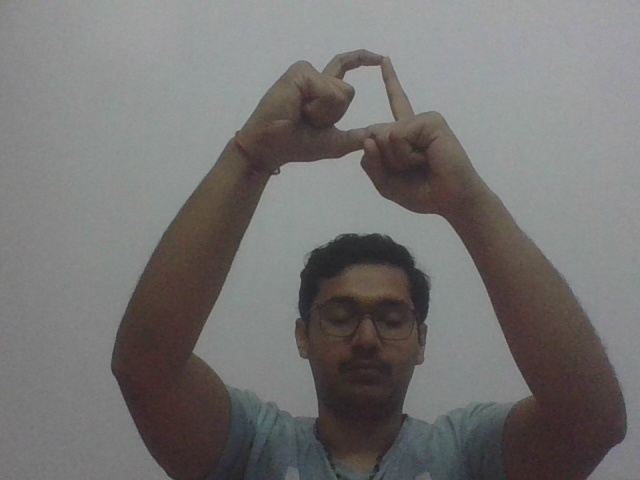D: (273, 47, 465, 207)
